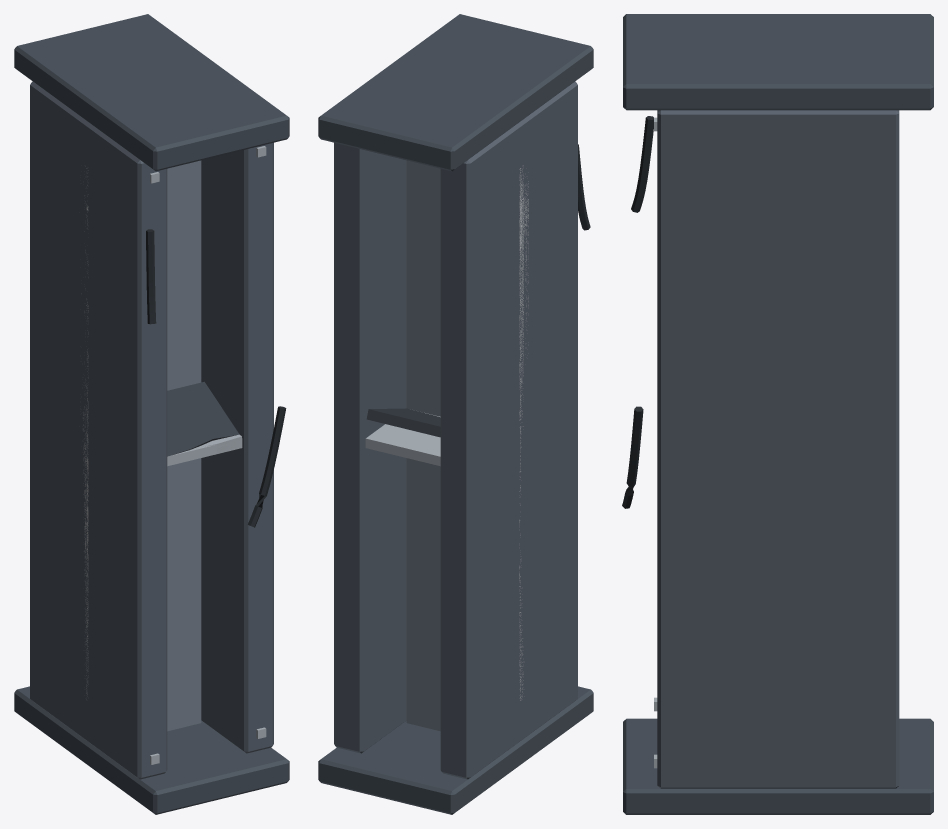
File: shr_cmp_generic_column_steel_a.glb
3 views of the same model, side by side, from view 1: azimuth 30°, elevation 25°; view 2: azimuth 150°, elevation 25°; view 3: azimuth 270°, elevation 25° (orthographic). The views are drawn at different scales.
Parts seen in each view (by area): view 1: mesh_heavy, mesh_intact, mesh_light; view 2: mesh_heavy, mesh_light, mesh_intact; view 3: mesh_heavy, mesh_intact.
Part boxes in pixels (x1,y1,x2,y2): mesh_heavy: [14, 14, 289, 814]; mesh_intact: [30, 86, 273, 777]; mesh_light: [30, 82, 242, 777]; mesh_heavy: [318, 14, 593, 814]; mesh_light: [406, 82, 577, 777]; mesh_intact: [364, 87, 577, 773]; mesh_heavy: [622, 14, 933, 814]; mesh_intact: [654, 113, 895, 787].
Size of the model in its own units: 0.303 by 1.4 by 0.5414.
